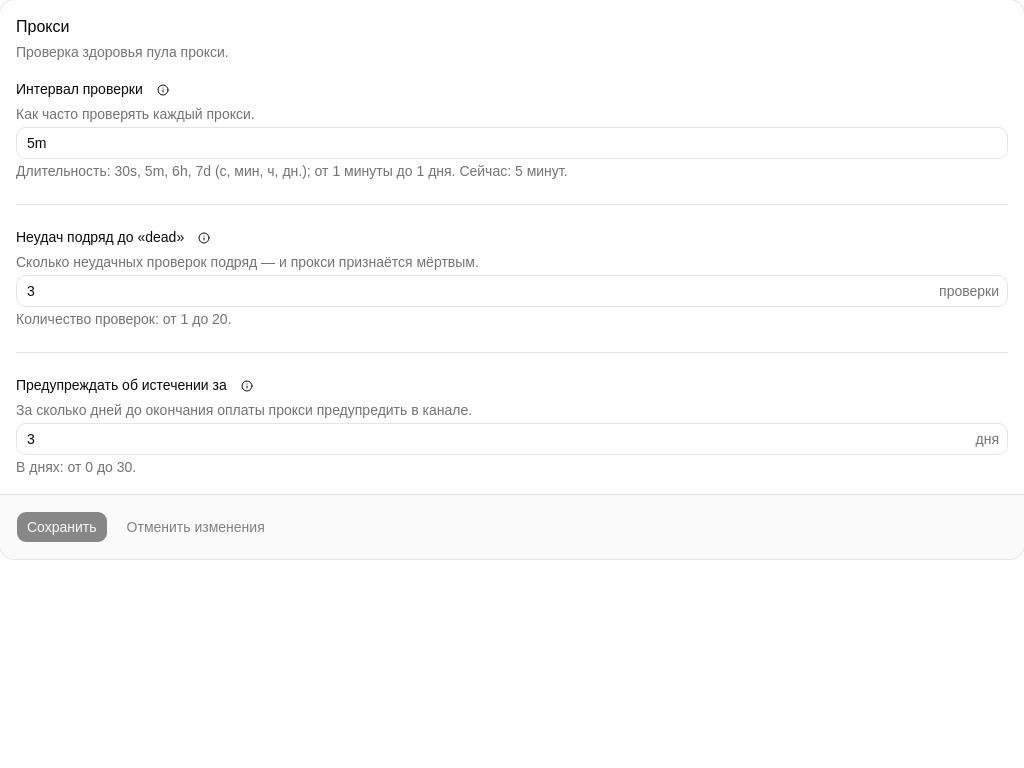
Scenario: SettingsGroupCard › shows server-side field errors from a 400
The image size is (1024, 768).
Clear the number field labelled "Неудач подряд до «dead»" at (478, 291), box [17, 275, 939, 307]
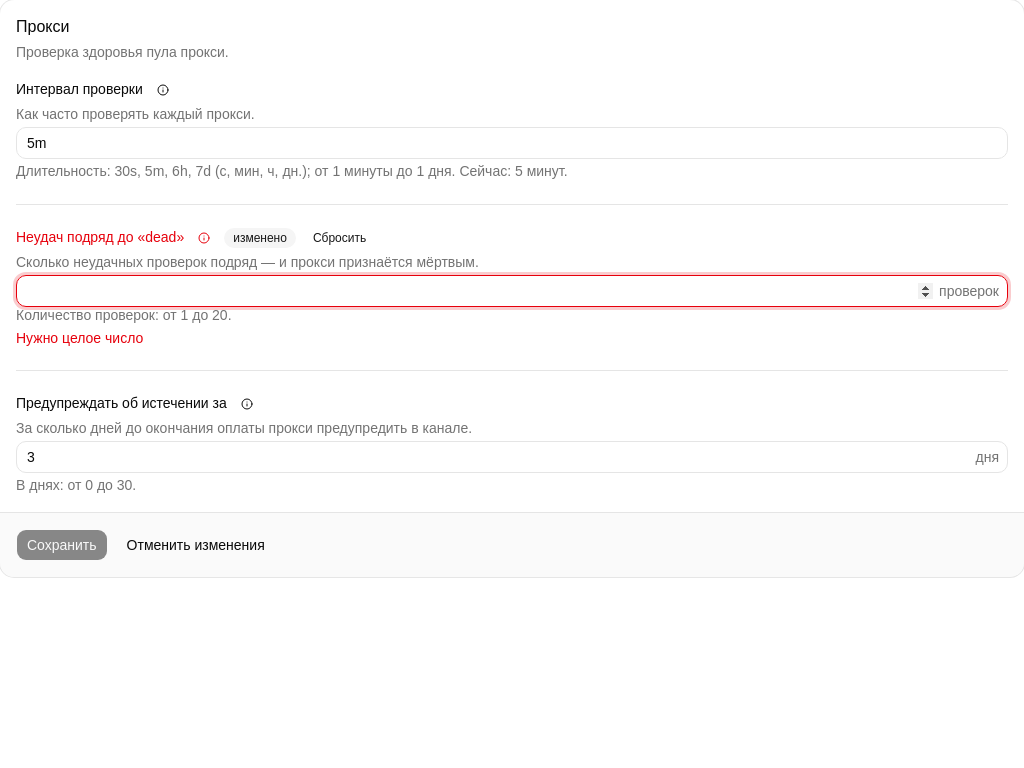
Type "7" into the number field labelled "Неудач подряд до «dead»" at (478, 291), box [17, 275, 939, 307]
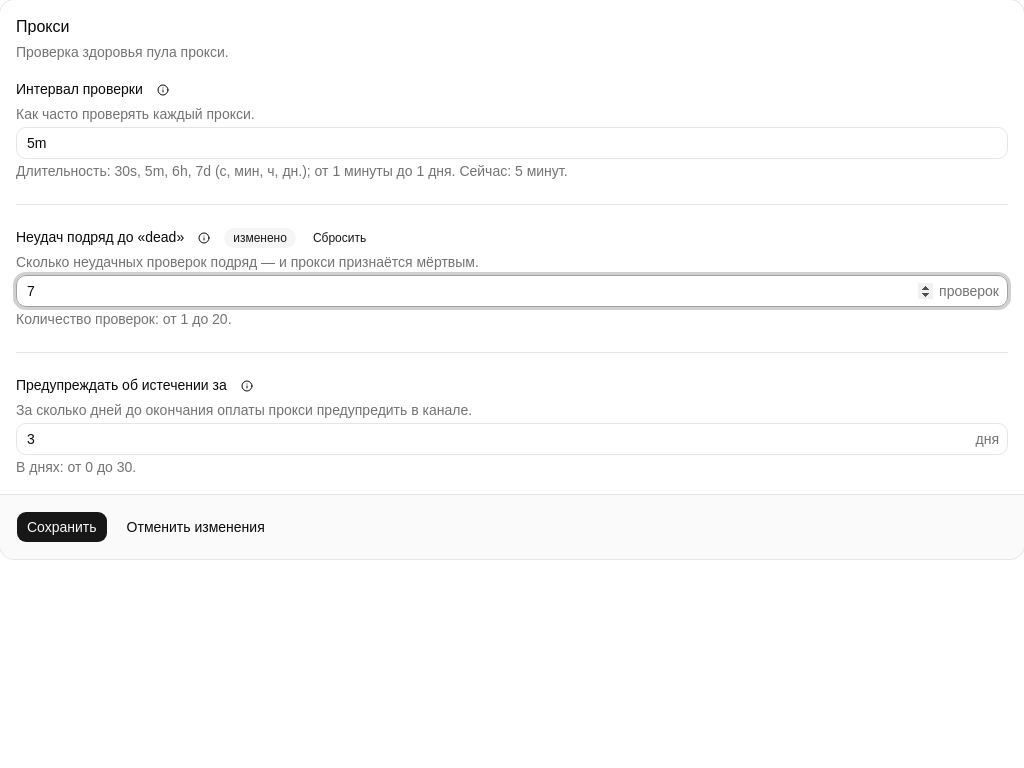
Click the button "Сохранить" at (62, 527), box [16, 511, 108, 543]
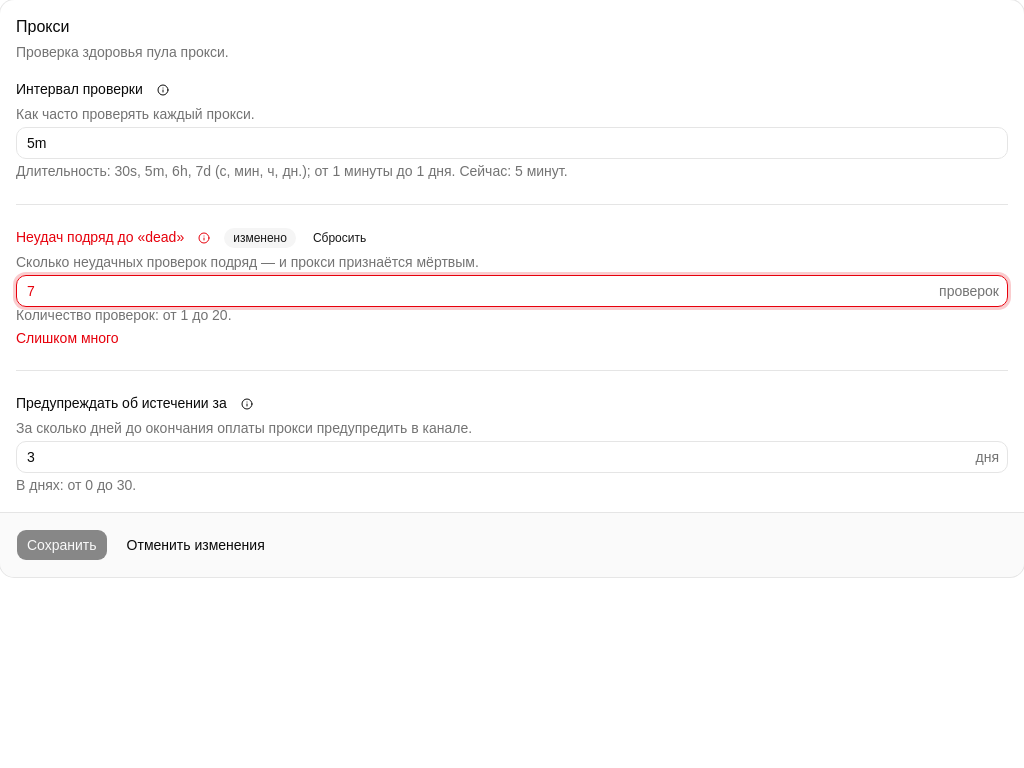
Expected: the text "Слишком много" is shown, [16, 330, 119, 346]
